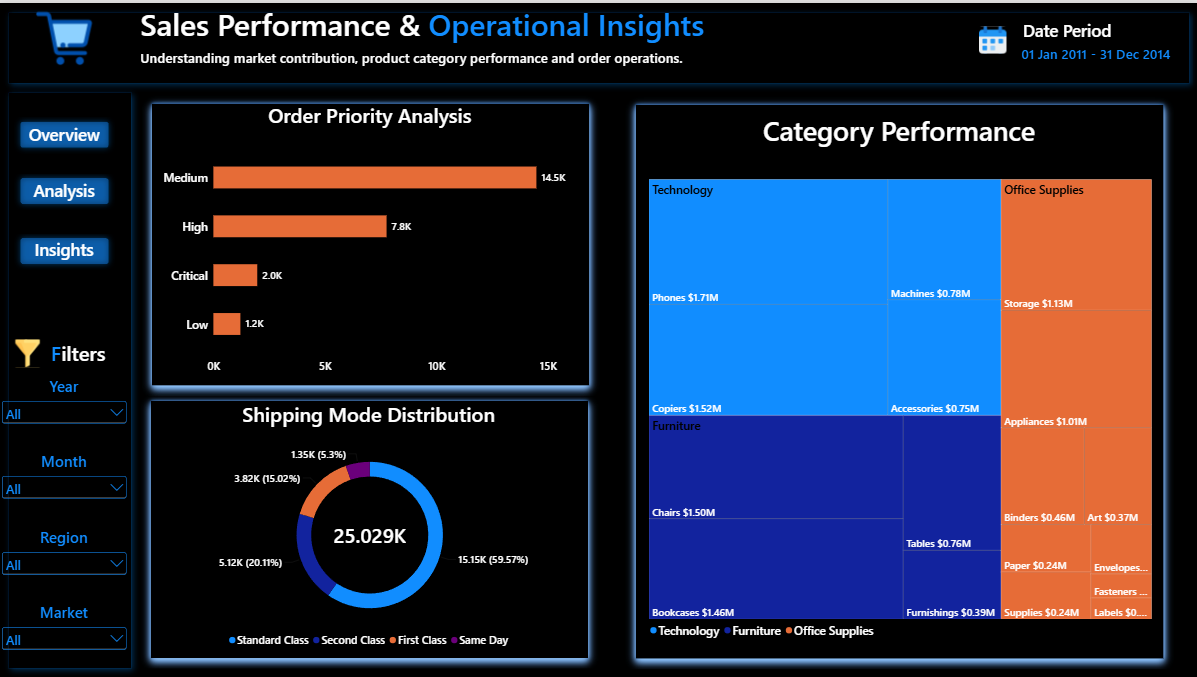

This screenshot's page, from the dashboard's own definition file:
{"tool":"powerbi","page":{"name":"Analysis","canvas":[1920,1080],"ordinal":1},"visuals":[{"type":"shape","box":[0,128.3,226.7,951.7],"z":0},{"type":"actionButton","box":[0,525,91.7,68.3],"z":0,"group":"g1"},{"type":"shape","box":[0,0,1920,143.3],"z":1000},{"type":"textbox","box":[46.7,537.7,161.7,55.6],"z":1000,"group":"g1"},{"type":"actionButton","box":[0,0,208.3,115],"z":2000},{"type":"textbox","box":[226.7,0,928.3,71.7],"z":3000},{"type":"actionButton","box":[1540,25,100,66.7],"z":5000},{"type":"textbox","box":[1638.3,25,281.7,46.7],"z":6000},{"type":"textbox","box":[226.7,71.7,1053.3,43.3],"z":7000},{"type":"group","id":"g1","title":"Group 1","box":[0,525,208.3,68.3],"z":8000},{"type":"group","id":"g2","title":"Group 3","box":[0,579.9,209,98.4],"z":9000},{"type":"group","id":"g3","title":"Group 3","box":[0,700.6,209,98.4],"z":10000},{"type":"group","id":"g4","title":"Group 3","box":[0,821.2,209,98.4],"z":11000},{"type":"slicer","fields":{"Values":["Data Cleaning.year"]},"box":[0,631.9,209,46.4],"z":12000,"group":"g2"},{"type":"slicer","fields":{"Values":["Date.Month"]},"box":[0,752.6,209,46.4],"z":12000,"group":"g3"},{"type":"slicer","fields":{"Values":["Data Cleaning.region"]},"box":[0,873.2,209,46.4],"z":12000,"group":"g4"},{"type":"group","id":"g5","title":"Group 3","box":[0,941.8,209,98.4],"z":12000},{"type":"slicer","fields":{"Values":["Data Cleaning.market"]},"box":[0,993.8,209,46.4],"z":12000,"group":"g5"},{"type":"cardVisual","fields":{"Data":["Date.Date Period"]},"box":[1620,48.3,285,66.7],"z":13000},{"type":"actionButton","box":[23.8,180,161.7,61.7],"z":14000},{"type":"textbox","box":[227,930,158,150],"z":15000},{"type":"textbox","box":[40,191.5,128.5,48.5],"z":16000},{"type":"actionButton","box":[24,270,161.7,61.7],"z":17000},{"type":"textbox","box":[40,281,128,36],"z":18000},{"type":"actionButton","box":[56.2,579.9,95.7,60.7],"z":18000,"group":"g6"},{"type":"actionButton","box":[56.2,700.6,95.7,60.7],"z":18000,"group":"g7"},{"type":"actionButton","box":[56.2,821.2,95.7,60.7],"z":18000,"group":"g8"},{"type":"actionButton","box":[56.2,941.8,95.7,60.7],"z":18000,"group":"g9"},{"type":"shape","box":[228.3,143.3,733.3,485],"z":19000,"group":"g11"},{"type":"shape","box":[1001.7,145,878.3,920],"z":19000,"group":"g10"},{"type":"actionButton","box":[23,365,161.7,61.7],"z":19000},{"type":"shape","box":[226.7,620,733.3,445],"z":19000,"group":"g12"},{"type":"textbox","box":[56.2,596.7,95.7,43.9],"z":19500,"group":"g6"},{"type":"textbox","box":[56.2,717.4,95.7,43.9],"z":19500,"group":"g7"},{"type":"textbox","box":[56.2,838,95.7,43.9],"z":19500,"group":"g8"},{"type":"textbox","box":[56.2,958.6,95.7,43.9],"z":19500,"group":"g9"},{"type":"group","id":"g6","title":"Group 2","box":[56.2,579.9,95.7,62.4],"z":19501,"group":"g2"},{"type":"group","id":"g7","title":"Group 2","box":[56.2,700.6,95.7,62.4],"z":19501,"group":"g3"},{"type":"group","id":"g8","title":"Group 2","box":[56.2,821.2,95.7,62.4],"z":19501,"group":"g4"},{"type":"group","id":"g9","title":"Group 2","box":[56.2,941.8,95.7,62.4],"z":19501,"group":"g5"},{"type":"textbox","box":[227,930,158,150],"z":20000},{"type":"barChart","fields":{"Category":["Data Cleaning.order_priority"],"Y":["Count(Data Cleaning.order_id)"]},"box":[246.9,207.4,698.1,405],"z":21000,"group":"g11"},{"type":"treemap","fields":{"Details":["Data Cleaning.sub_category"],"Group":["Data Cleaning.category"],"Values":["Data Cleaning.Total Sales"]},"box":[1023.9,266.6,836.1,768.3],"z":21000,"group":"g10"},{"type":"textbox","box":[40,376,128,40],"z":21000},{"type":"donutChart","fields":{"Category":["Data Cleaning.ship_mode"],"Y":["Count(Data Cleaning.order_id)"]},"box":[245.6,685,698.3,365],"z":21000,"group":"g12"},{"type":"group","id":"g10","title":"Group 5","box":[1001.7,145,878.3,920],"z":22000},{"type":"textbox","box":[246.9,158,694.3,45.9],"z":22000,"group":"g11"},{"type":"textbox","box":[1023.9,173,831.6,87.2],"z":22000,"group":"g10"},{"type":"textbox","box":[245.6,636.7,695,46.7],"z":22000,"group":"g12"},{"type":"group","id":"g11","title":"Group 5","box":[228.3,143.3,733.3,485],"z":23000},{"type":"group","id":"g12","title":"Group 5","box":[226.7,620,733.3,445],"z":24000}]}

Visuals, with their boxes in screenshot pixels (x1, y1, x2, y2), scaled from the page's 1920x1080 canvas onto the 1197x677 screenshot:
shape: {"left": 0, "top": 80, "right": 141, "bottom": 676}
actionButton: {"left": 0, "top": 329, "right": 57, "bottom": 372}
shape: {"left": 0, "top": 0, "right": 1196, "bottom": 90}
textbox: {"left": 29, "top": 337, "right": 130, "bottom": 372}
actionButton: {"left": 0, "top": 0, "right": 130, "bottom": 72}
textbox: {"left": 141, "top": 0, "right": 720, "bottom": 45}
actionButton: {"left": 960, "top": 16, "right": 1022, "bottom": 57}
textbox: {"left": 1021, "top": 16, "right": 1196, "bottom": 45}
textbox: {"left": 141, "top": 45, "right": 798, "bottom": 72}
"Group 1" group: {"left": 0, "top": 329, "right": 130, "bottom": 372}
"Group 3" group: {"left": 0, "top": 364, "right": 130, "bottom": 425}
"Group 3" group: {"left": 0, "top": 439, "right": 130, "bottom": 501}
"Group 3" group: {"left": 0, "top": 515, "right": 130, "bottom": 576}
slicer - Data Cleaning.year: {"left": 0, "top": 396, "right": 130, "bottom": 425}
slicer - Date.Month: {"left": 0, "top": 472, "right": 130, "bottom": 501}
slicer - Data Cleaning.region: {"left": 0, "top": 547, "right": 130, "bottom": 576}
"Group 3" group: {"left": 0, "top": 590, "right": 130, "bottom": 652}
slicer - Data Cleaning.market: {"left": 0, "top": 623, "right": 130, "bottom": 652}
cardVisual - Date.Date Period: {"left": 1010, "top": 30, "right": 1188, "bottom": 72}
actionButton: {"left": 15, "top": 113, "right": 116, "bottom": 152}
textbox: {"left": 142, "top": 583, "right": 240, "bottom": 676}
textbox: {"left": 25, "top": 120, "right": 105, "bottom": 150}
actionButton: {"left": 15, "top": 169, "right": 116, "bottom": 208}
textbox: {"left": 25, "top": 176, "right": 105, "bottom": 199}
actionButton: {"left": 35, "top": 364, "right": 95, "bottom": 402}
actionButton: {"left": 35, "top": 439, "right": 95, "bottom": 477}
actionButton: {"left": 35, "top": 515, "right": 95, "bottom": 553}
actionButton: {"left": 35, "top": 590, "right": 95, "bottom": 628}
shape: {"left": 142, "top": 90, "right": 599, "bottom": 394}
shape: {"left": 624, "top": 91, "right": 1172, "bottom": 668}
actionButton: {"left": 14, "top": 229, "right": 115, "bottom": 267}
shape: {"left": 141, "top": 389, "right": 598, "bottom": 668}
textbox: {"left": 35, "top": 374, "right": 95, "bottom": 402}
textbox: {"left": 35, "top": 450, "right": 95, "bottom": 477}
textbox: {"left": 35, "top": 525, "right": 95, "bottom": 553}
textbox: {"left": 35, "top": 601, "right": 95, "bottom": 628}
"Group 2" group: {"left": 35, "top": 364, "right": 95, "bottom": 403}
"Group 2" group: {"left": 35, "top": 439, "right": 95, "bottom": 478}
"Group 2" group: {"left": 35, "top": 515, "right": 95, "bottom": 554}
"Group 2" group: {"left": 35, "top": 590, "right": 95, "bottom": 629}
textbox: {"left": 142, "top": 583, "right": 240, "bottom": 676}
barChart - Data Cleaning.order_priority x Count(Data Cleaning.order_id): {"left": 154, "top": 130, "right": 589, "bottom": 384}
treemap - Data Cleaning.sub_category x Data Cleaning.category: {"left": 638, "top": 167, "right": 1160, "bottom": 649}
textbox: {"left": 25, "top": 236, "right": 105, "bottom": 261}
donutChart - Data Cleaning.ship_mode x Count(Data Cleaning.order_id): {"left": 153, "top": 429, "right": 588, "bottom": 658}
"Group 5" group: {"left": 624, "top": 91, "right": 1172, "bottom": 668}
textbox: {"left": 154, "top": 99, "right": 587, "bottom": 128}
textbox: {"left": 638, "top": 108, "right": 1157, "bottom": 163}
textbox: {"left": 153, "top": 399, "right": 586, "bottom": 428}
"Group 5" group: {"left": 142, "top": 90, "right": 599, "bottom": 394}
"Group 5" group: {"left": 141, "top": 389, "right": 598, "bottom": 668}
